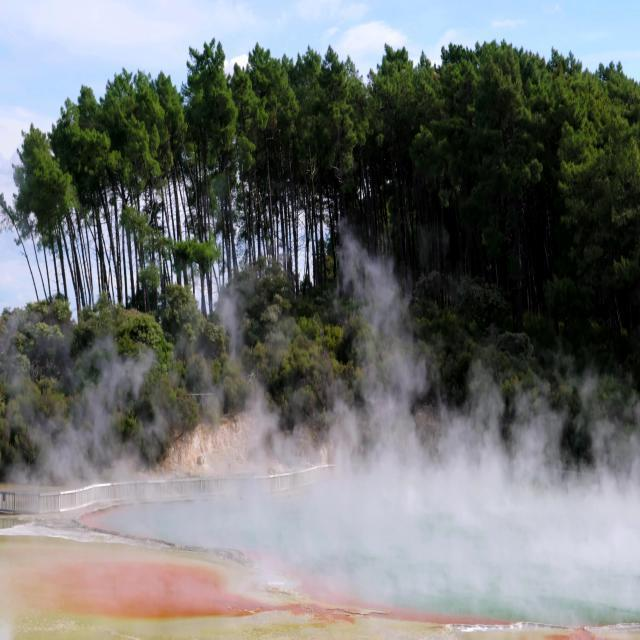Smoke: (65, 370, 640, 620), (334, 223, 430, 412)
